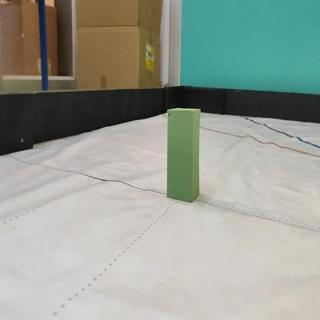greenbox: (164, 107, 202, 204)
